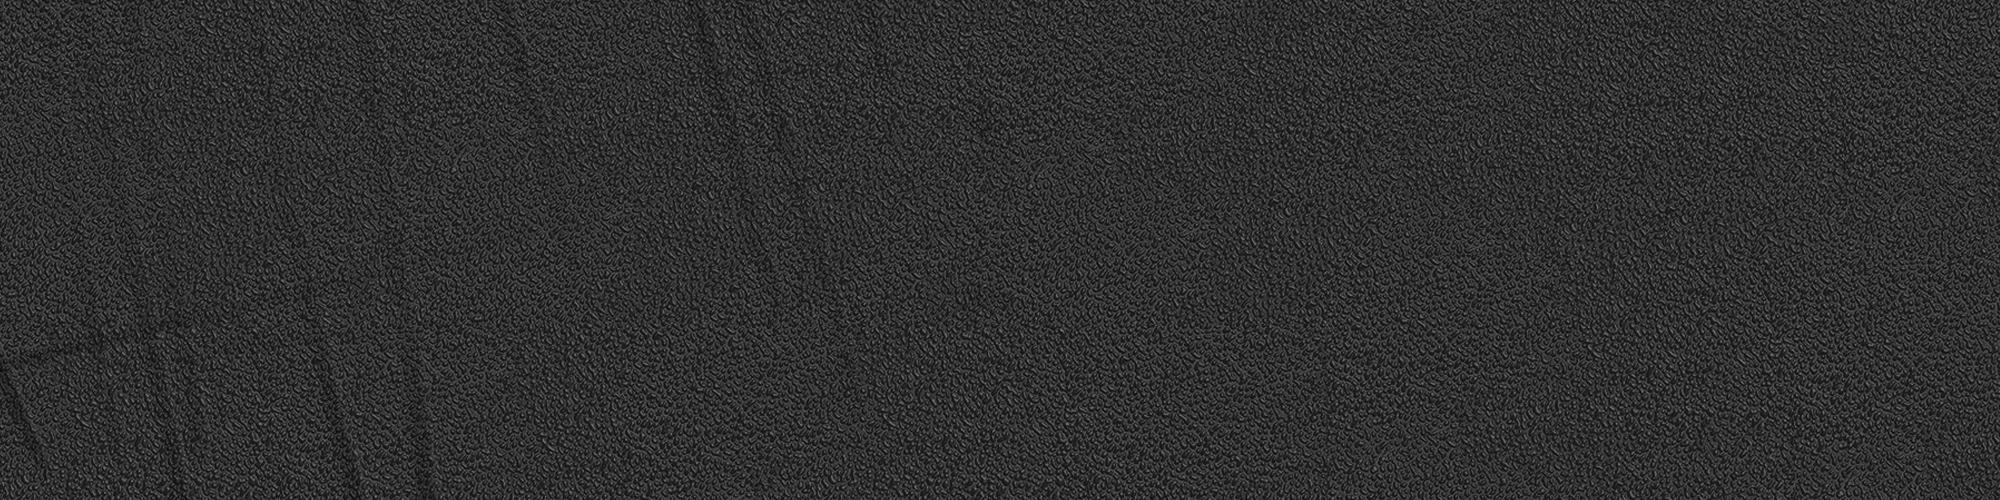Scratches: (66, 6, 435, 499), (3, 224, 528, 467), (687, 3, 871, 423), (482, 6, 585, 256), (3, 358, 50, 494), (966, 291, 1023, 380), (1306, 338, 1346, 439), (963, 96, 1004, 156), (556, 307, 579, 403)
